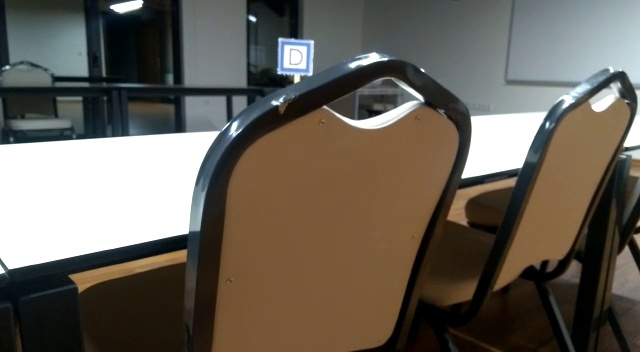durak: (276, 36, 314, 79)
